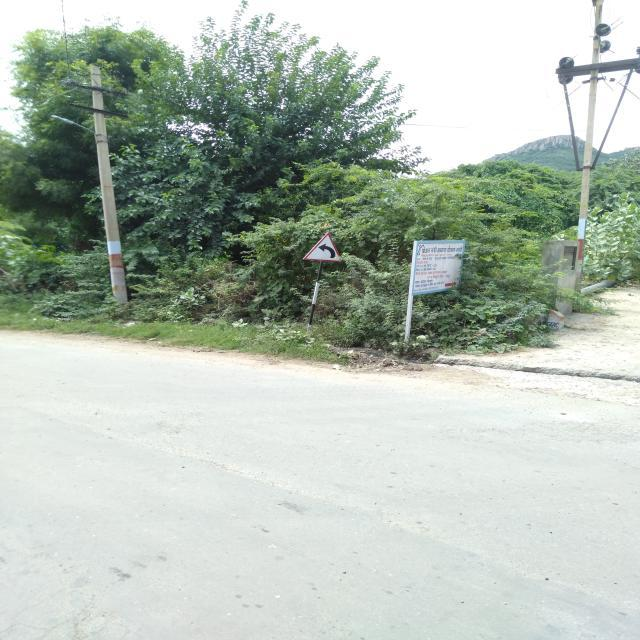left hand curve: (304, 232, 343, 263)
